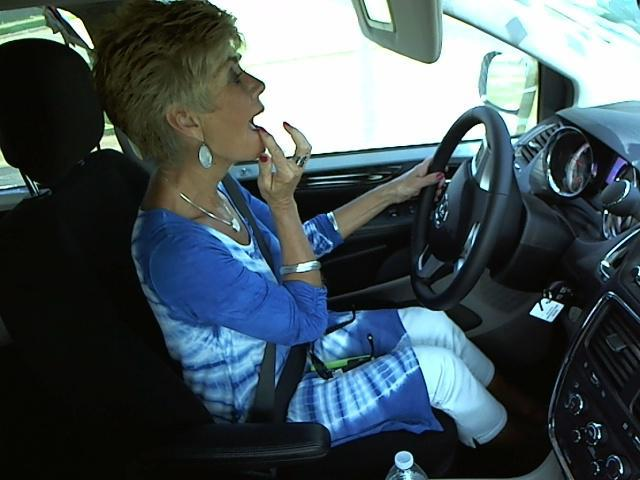c6 - Hair and Makeup: (82, 7, 570, 358)
